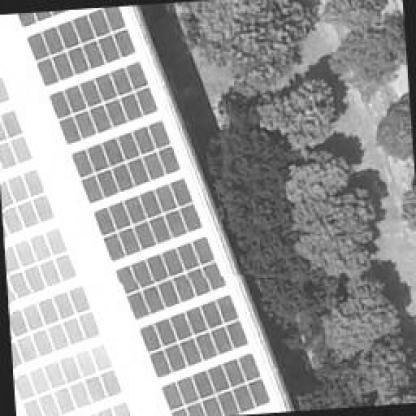solar-pv-panel: (87, 176, 203, 264), (111, 234, 226, 322), (134, 293, 249, 381), (67, 118, 180, 205), (44, 61, 157, 146), (24, 6, 134, 88), (11, 341, 123, 416), (7, 283, 100, 371), (155, 351, 272, 416), (2, 226, 77, 303), (0, 167, 55, 240), (0, 108, 32, 172), (14, 9, 68, 28), (81, 399, 132, 416), (0, 76, 8, 103)
